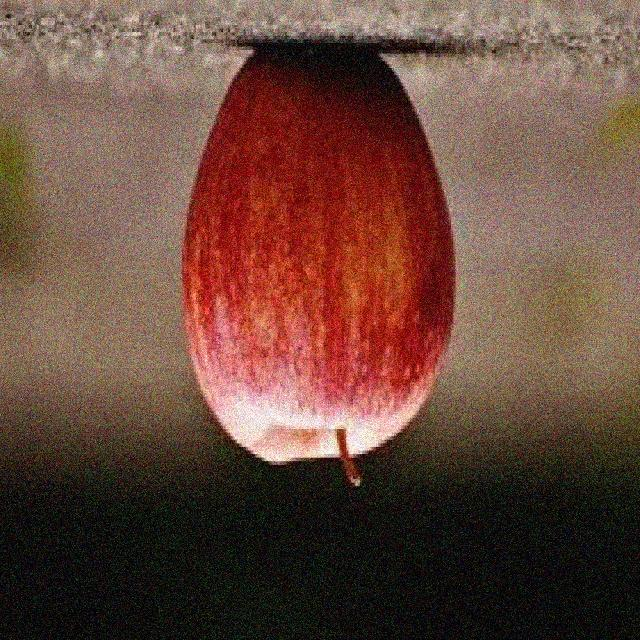red apple: (180, 46, 457, 473)
